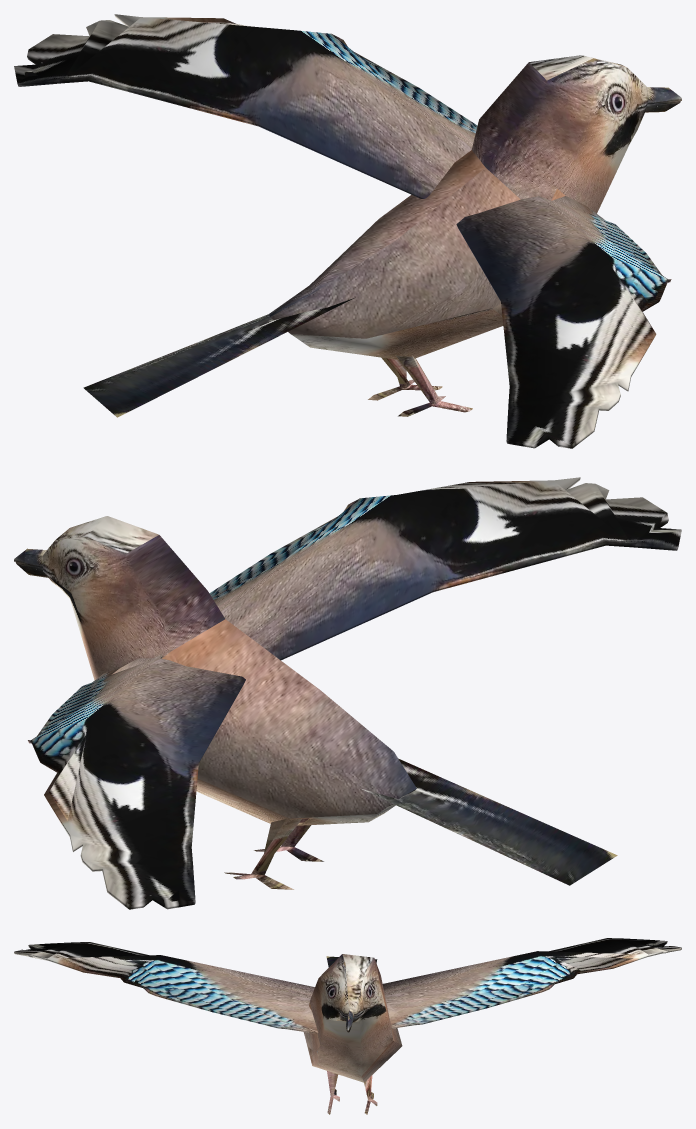
The model's file is sojka.glb.
3 renders of one model, top to bottom at view 1: azimuth 30°, elevation 25°; view 2: azimuth 150°, elevation 25°; view 3: azimuth 270°, elevation 25°, orthographic. The views are drawn at different scales.
Parts seen in each view (by area): view 1: Body, WingB, WingA, Tail, LegA, Beak, LegB; view 2: Body, WingA, WingB, Tail, LegB, LegA, Beak; view 3: WingA, WingB, Body, LegA.
Part boxes in pixels (x1=…): Body: x1=269, y1=55, x2=648, y2=359; WingB: x1=14, y1=14, x2=477, y2=198; WingA: x1=456, y1=195, x2=671, y2=448; Tail: x1=83, y1=298, x2=354, y2=417; LegA: x1=395, y1=355, x2=472, y2=416; Beak: x1=645, y1=87, x2=681, y2=112; LegB: x1=368, y1=357, x2=442, y2=400; Body: x1=42, y1=516, x2=416, y2=825; WingA: x1=209, y1=477, x2=681, y2=660; WingB: x1=28, y1=654, x2=245, y2=909; Tail: x1=361, y1=758, x2=617, y2=885; LegB: x1=224, y1=819, x2=301, y2=889; LegA: x1=254, y1=818, x2=323, y2=861; Beak: x1=14, y1=548, x2=48, y2=577; WingA: x1=14, y1=942, x2=318, y2=1033; WingB: x1=382, y1=938, x2=681, y2=1028; Body: x1=303, y1=954, x2=402, y2=1082; LegA: x1=327, y1=1071, x2=339, y2=1114.
Size of the model in its own units: 3.44 by 1.75 by 5.52.
Materials: 1 (1 with a texture image).
